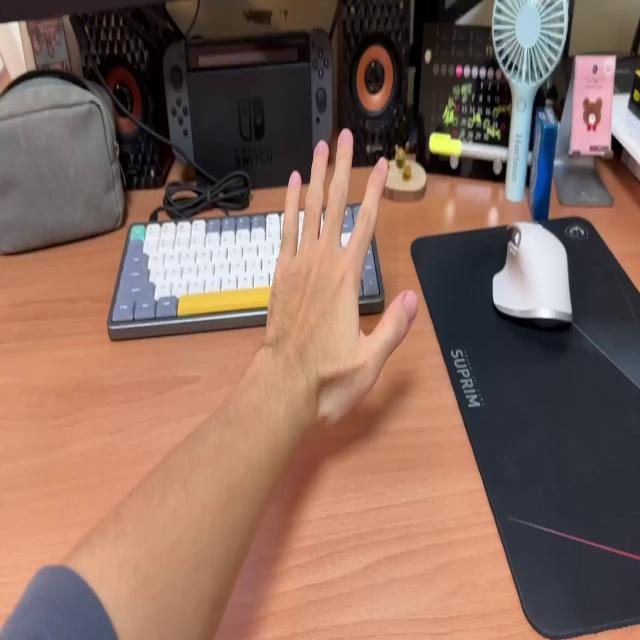keyboard-with-hands: (110, 202, 382, 327)
